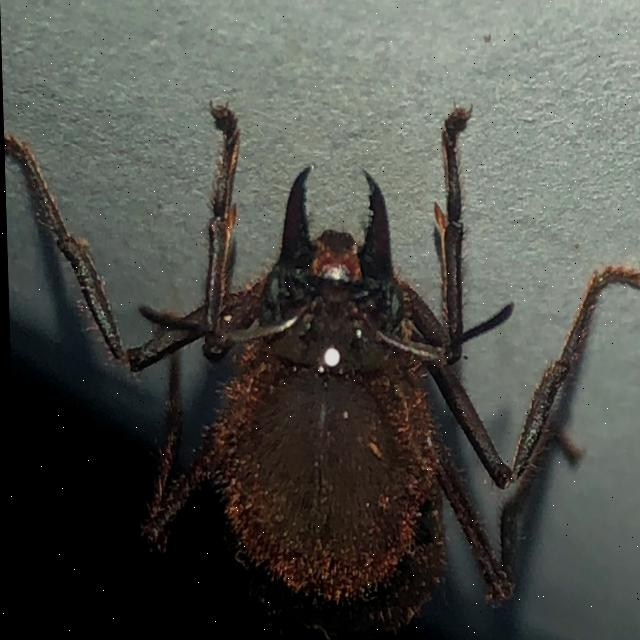Alive-Female-Dealate: (2, 94, 640, 640)
